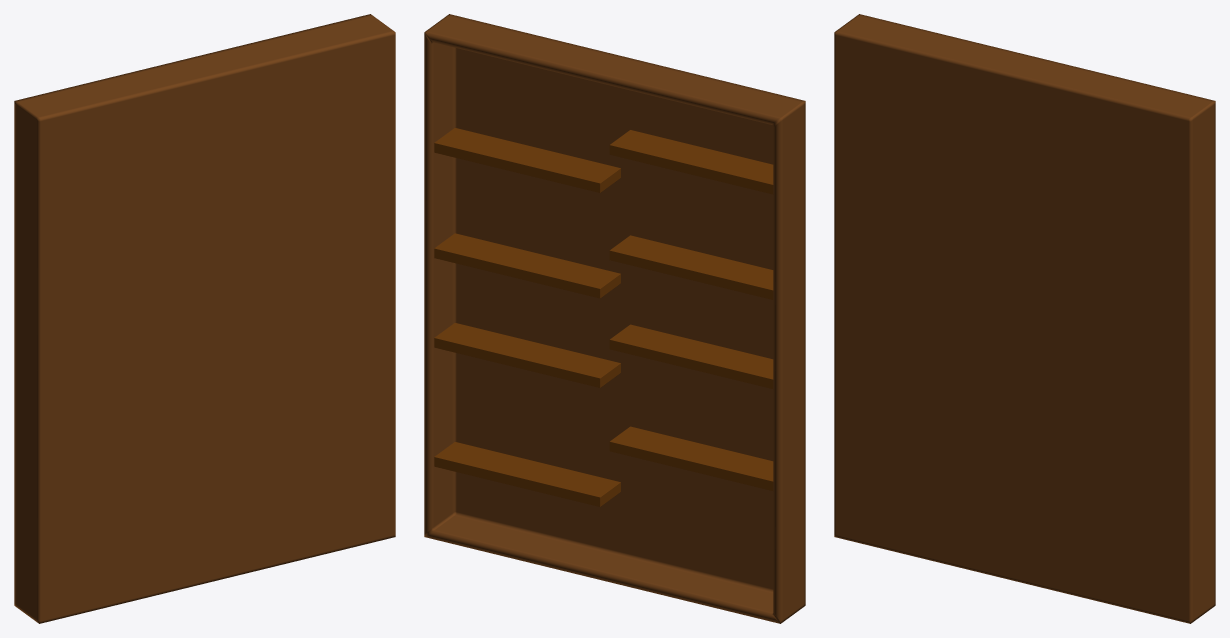
The model's file is Bookcase.fbx.
The picture shows the model from 3 angles, left to right: view 1: azimuth 30°, elevation 25°; view 2: azimuth 150°, elevation 25°; view 3: azimuth 330°, elevation 25°; orthographic projection.
Visible parts, largest first — view 1: Bookcase; view 2: Bookcase; view 3: Bookcase.
Boxes of the visible parts, box(x1,y1,x2,y2) form: Bookcase: box(14, 14, 395, 623); Bookcase: box(424, 14, 805, 623); Bookcase: box(834, 14, 1215, 623).
Size of the model in its own units: 262 by 355 by 31.98.
